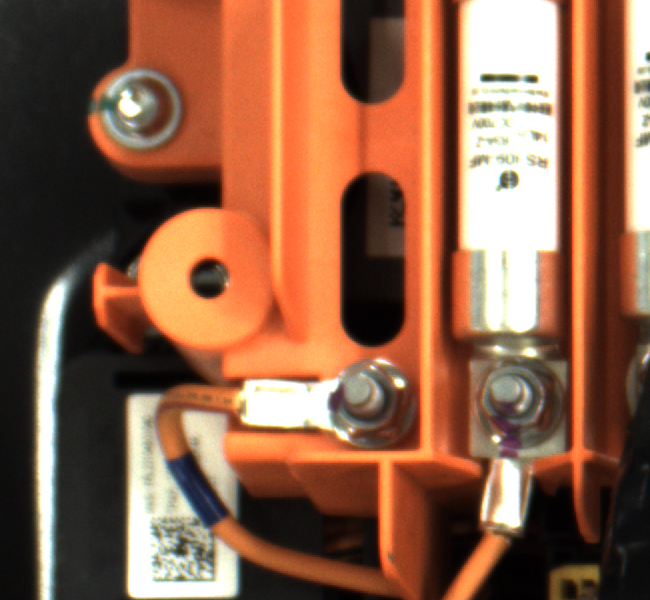screw_m: (94, 70, 188, 149)
screw_s: (468, 349, 561, 452), (327, 349, 410, 449)
